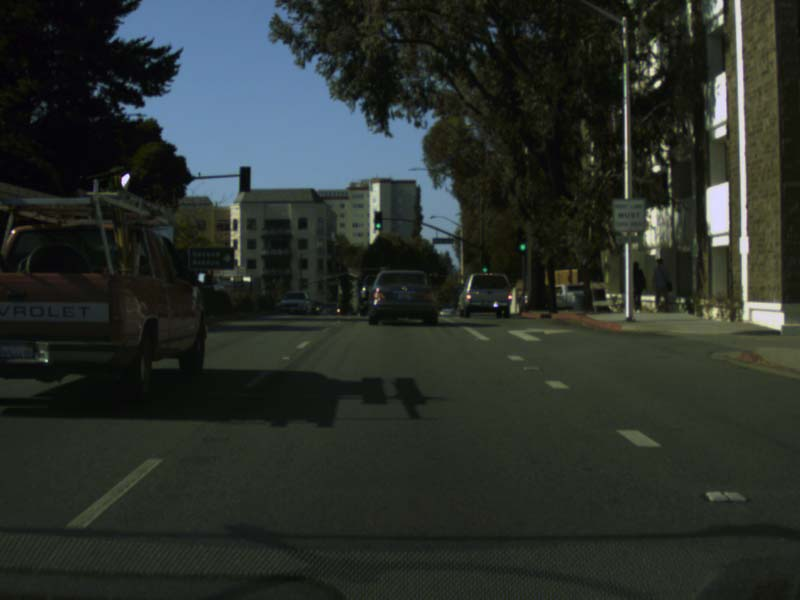Green: (517, 230, 526, 253), (374, 211, 382, 229), (481, 255, 488, 272)
